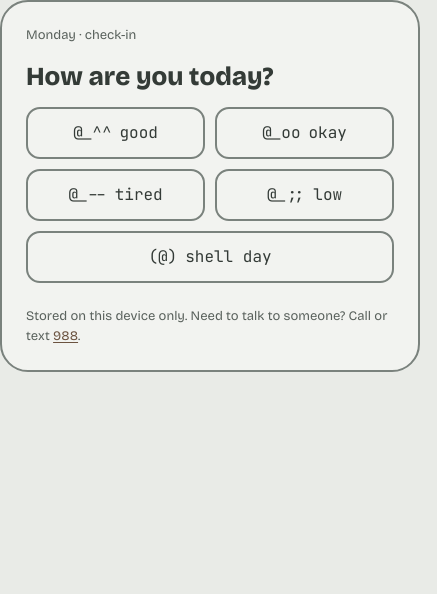
it: CheckIn › adds a gentle 988 note to a low answer
Click the button "@_;; low": coordinates (304, 195) x1=215 y1=169 x2=394 y2=221
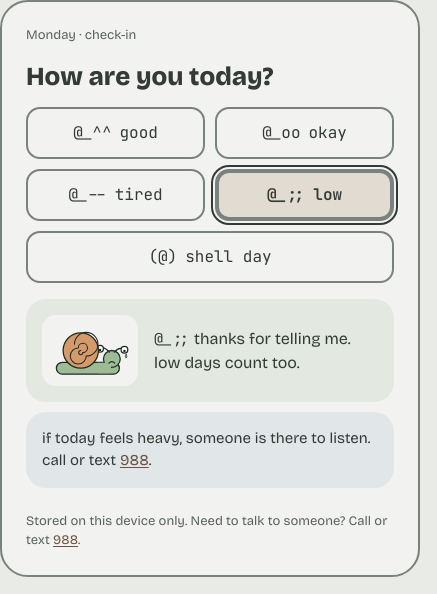
Expected: the message shows "someone is there to listen", x1=42 y1=429 x2=370 y2=469
